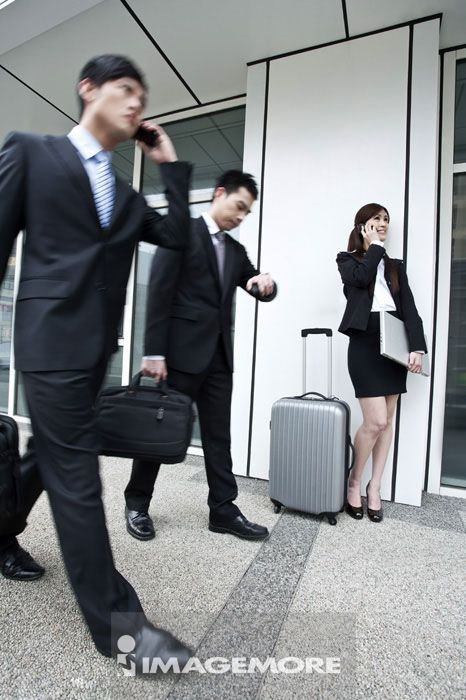talk: (357, 212, 391, 248)
